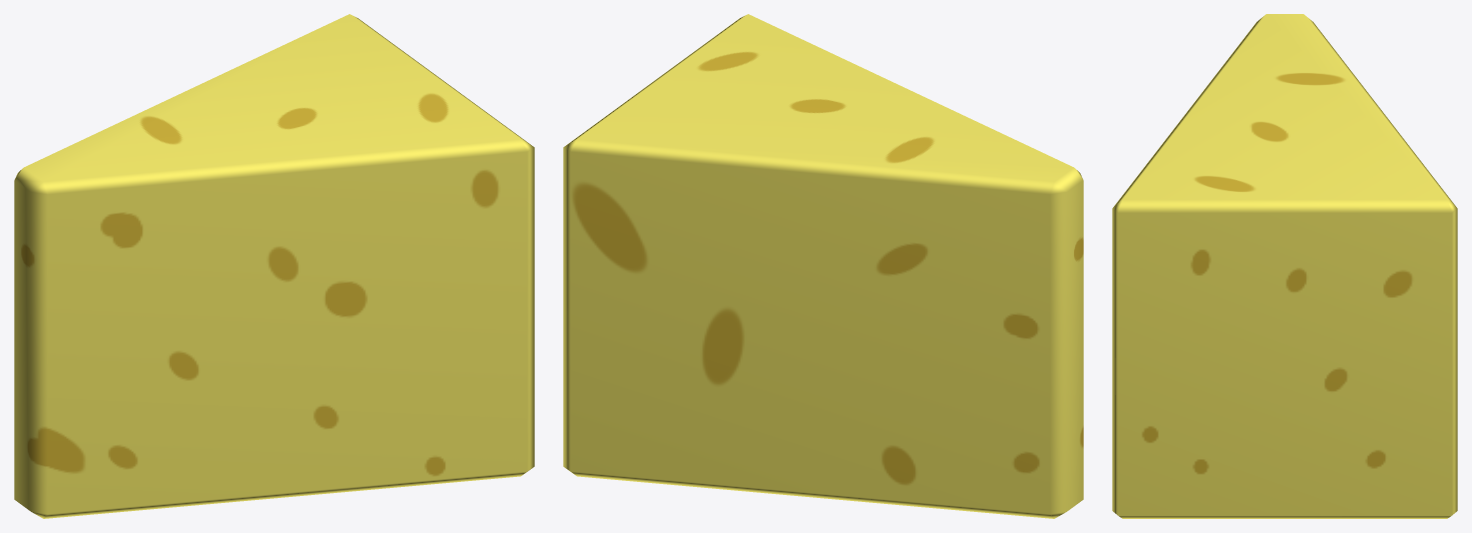
Rendered from Cheese.fbx.
3 renders of one model, left to right at view 1: azimuth 30°, elevation 25°; view 2: azimuth 150°, elevation 25°; view 3: azimuth 270°, elevation 25°, orthographic. The views are drawn at different scales.
Visible parts, largest first — view 1: Cube; view 2: Cube; view 3: Cube.
Part boxes in pixels (<box>): Cube: <box>14,14,534,518</box>; Cube: <box>563,14,1083,518</box>; Cube: <box>1112,14,1457,518</box>.
Size of the model in its own units: 88.18 by 67.06 by 65.66.
Materials: 1 (1 with a texture image).
